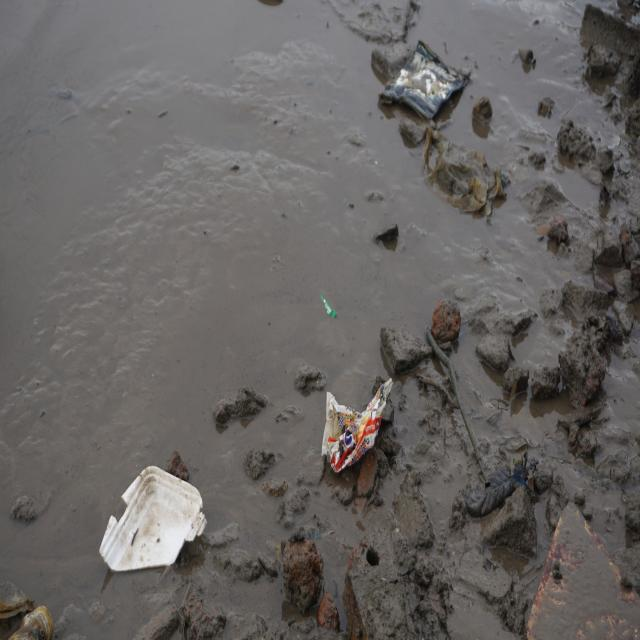Bungkus Makanan: (98, 460, 208, 575), (379, 38, 472, 129), (322, 378, 395, 475)
